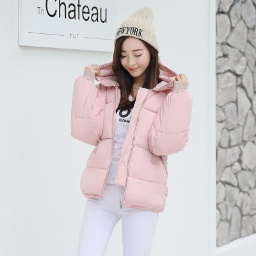face: (107, 33, 161, 87)
